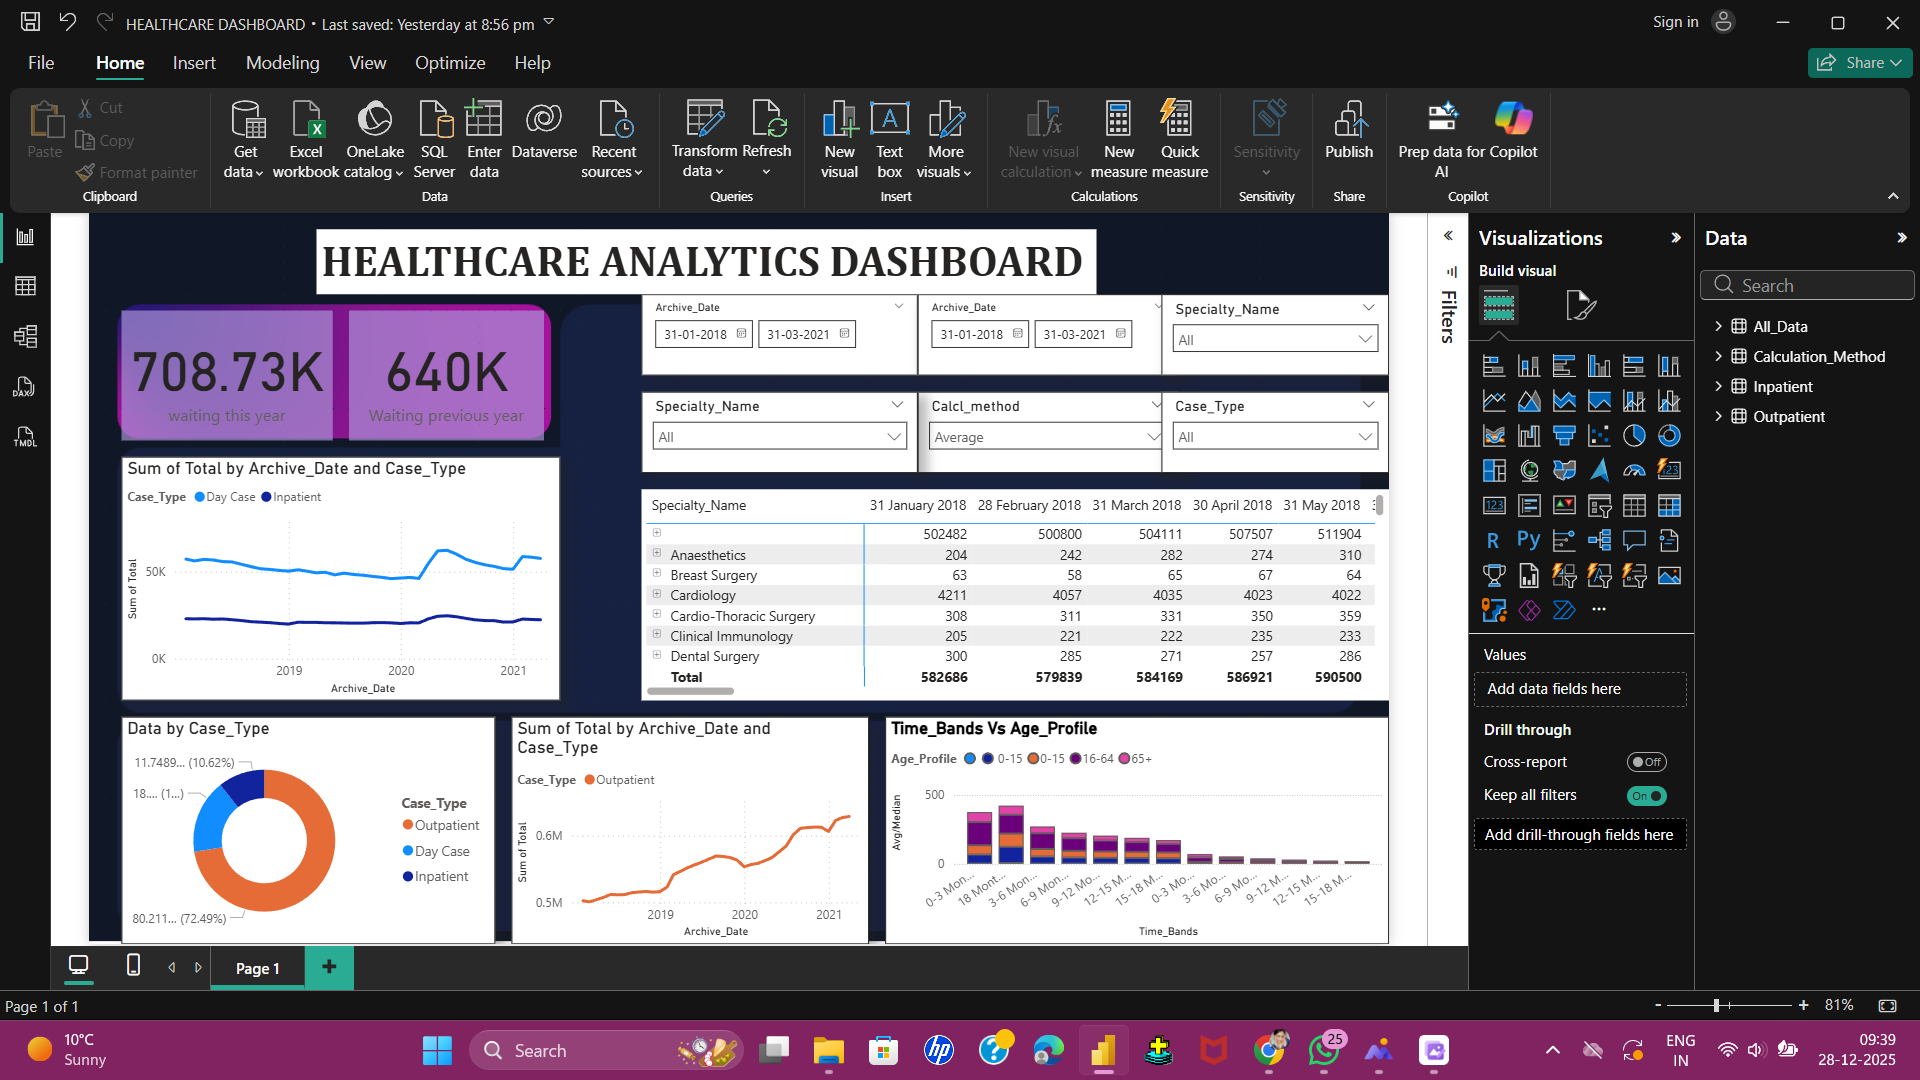

What the dashboard file says about the page in this screenshot:
{"tool":"powerbi","page":{"name":"Page 1","canvas":[1280,720],"ordinal":0},"visuals":[{"type":"card","fields":{"Values":["All_Data.Median"]},"box":[32,96,208,128],"z":0},{"type":"lineChart","fields":{"Y":["All_Data.Total"],"Category":["All_Data.Archive_Date"],"Series":["All_Data.Case_Type"]},"box":[32,240,464,240],"z":1000},{"type":"lineChart","fields":{"Y":["All_Data.Total"],"Category":["All_Data.Archive_Date"],"Series":["All_Data.Case_Type"]},"box":[416,496,352,224],"z":2000},{"type":"columnChart","title":" Time_Bands Vs Age_Profile","fields":{"Y":["All_Data.Avg/Median"],"Series":["All_Data.Age_Profile"],"Category":["All_Data.Time_Bands"]},"box":[784,496,496,224],"z":3000},{"type":"slicer","fields":{"Values":["Calculation_Method.Calcl_method"]},"box":[816,176,256,80],"z":4000},{"type":"slicer","fields":{"Values":["All_Data.Specialty_Name"]},"box":[544,176,272,80],"z":6000},{"type":"slicer","fields":{"Values":["All_Data.Archive_Date"]},"box":[544,80,272,80],"z":7000},{"type":"donutChart","title":"Data by Case_Type","fields":{"Y":["All_Data.Avg/Median"],"Category":["All_Data.Case_Type"]},"box":[32,496,368,224],"z":8000},{"type":"card","fields":{"Values":["All_Data.Waiting previous year"]},"box":[256,96,192,128],"z":9000},{"type":"slicer","fields":{"Values":["All_Data.Archive_Date"]},"box":[816,80,256,80],"z":10000},{"type":"slicer","fields":{"Values":["All_Data.Specialty_Name"]},"box":[1056,80,224,80],"z":11000},{"type":"slicer","fields":{"Values":["All_Data.Case_Type"]},"box":[1056,176,224,80],"z":12000},{"type":"textbox","box":[224,16,768,64],"z":13000},{"type":"pivotTable","fields":{"Rows":["All_Data.Specialty_Name","All_Data.Case_Type"],"Columns":["All_Data.Archive_Date"],"Values":["All_Data.Total"]},"box":[544,272,736,208],"z":13001}]}

Visuals, with their boxes on the page's 1280x720 design canvas (x1, y1, x2, y2). These are canvas units, not pixel positions in the 1920x1080 screenshot, which may show the page scaled, cropped or inside an application window:
card - All_Data.Median: select_region(32, 96, 240, 224)
lineChart - All_Data.Total x All_Data.Archive_Date: select_region(32, 240, 496, 480)
lineChart - All_Data.Total x All_Data.Archive_Date: select_region(416, 496, 768, 720)
" Time_Bands Vs Age_Profile" columnChart: select_region(784, 496, 1280, 720)
slicer - Calculation_Method.Calcl_method: select_region(816, 176, 1072, 256)
slicer - All_Data.Specialty_Name: select_region(544, 176, 816, 256)
slicer - All_Data.Archive_Date: select_region(544, 80, 816, 160)
"Data by Case_Type" donutChart: select_region(32, 496, 400, 720)
card - All_Data.Waiting previous year: select_region(256, 96, 448, 224)
slicer - All_Data.Archive_Date: select_region(816, 80, 1072, 160)
slicer - All_Data.Specialty_Name: select_region(1056, 80, 1280, 160)
slicer - All_Data.Case_Type: select_region(1056, 176, 1280, 256)
textbox: select_region(224, 16, 992, 80)
pivotTable - All_Data.Specialty_Name x All_Data.Case_Type: select_region(544, 272, 1280, 480)
